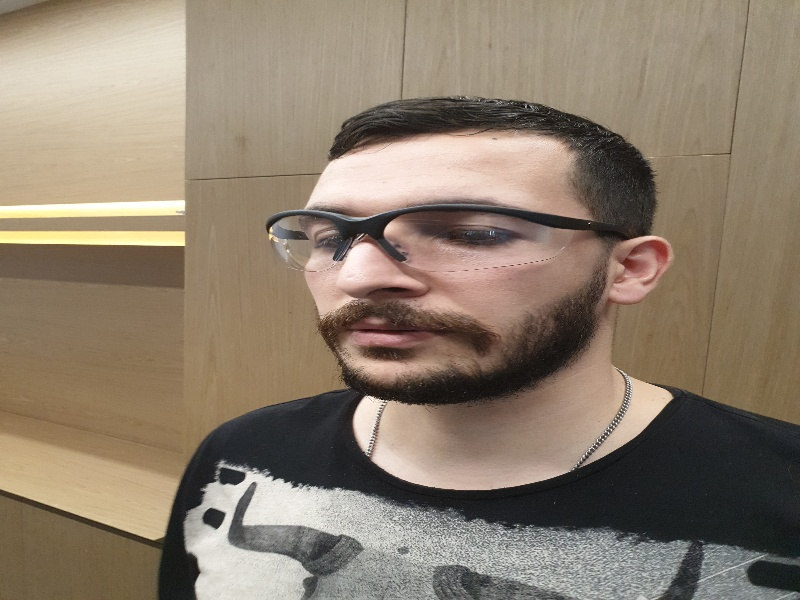Gozluk: (263, 204, 628, 273)
